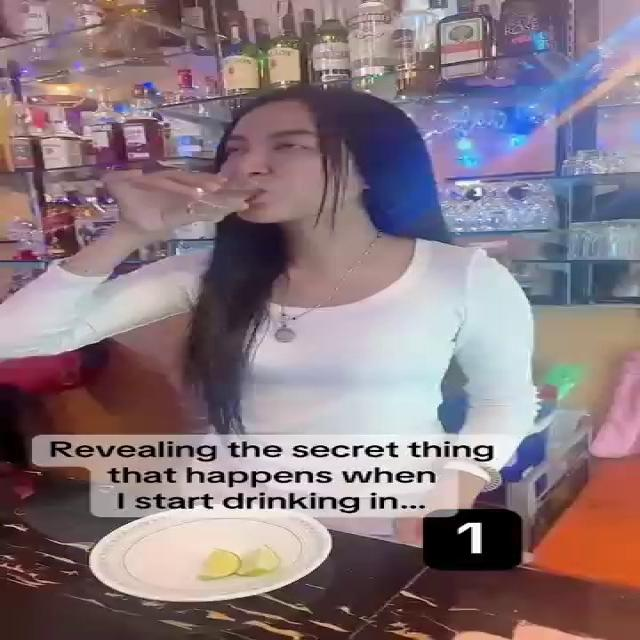Cup: (187, 178, 259, 222)
Hand: (102, 163, 250, 237)
Mouth: (204, 181, 282, 198)
